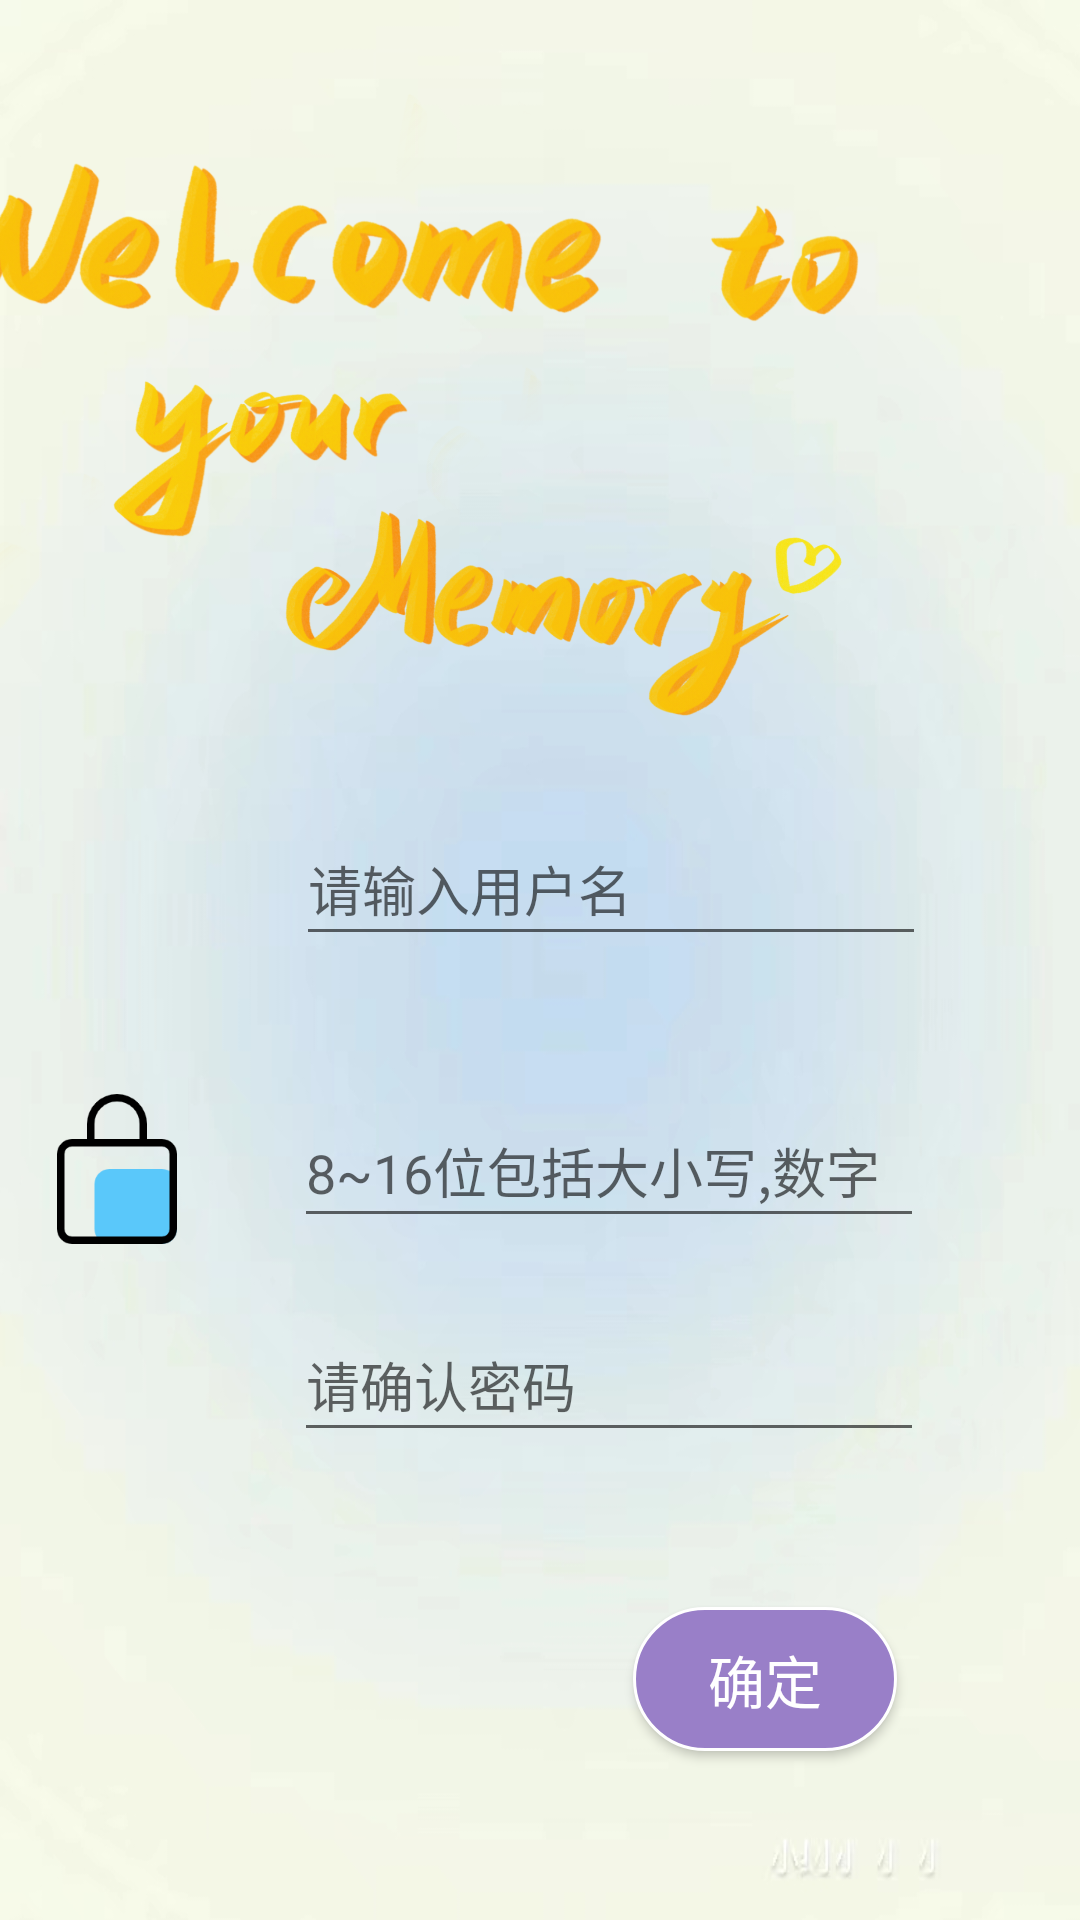

Icons on this 1080w x 1920h Android screen, each with the point to tap as point (x, y):
pass: point (117, 1169)
